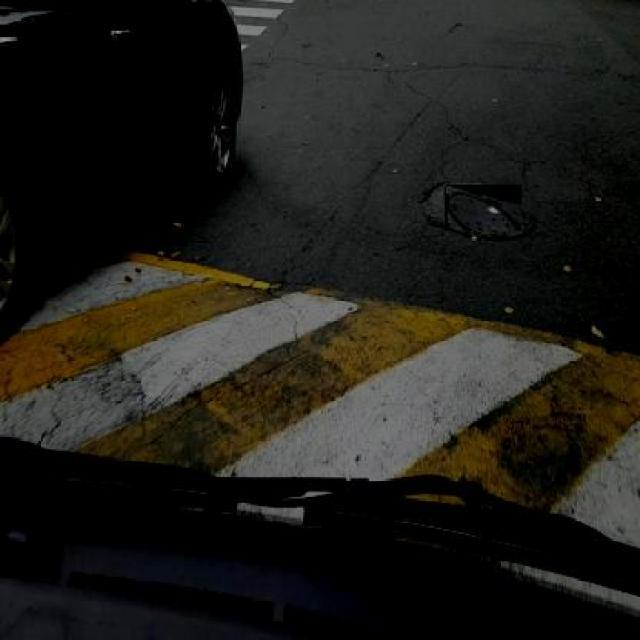Manhole: (446, 184, 522, 230)
Pothole: (416, 178, 449, 205), (420, 210, 446, 234), (453, 20, 464, 28)
Speed Bump: (0, 250, 640, 436)
